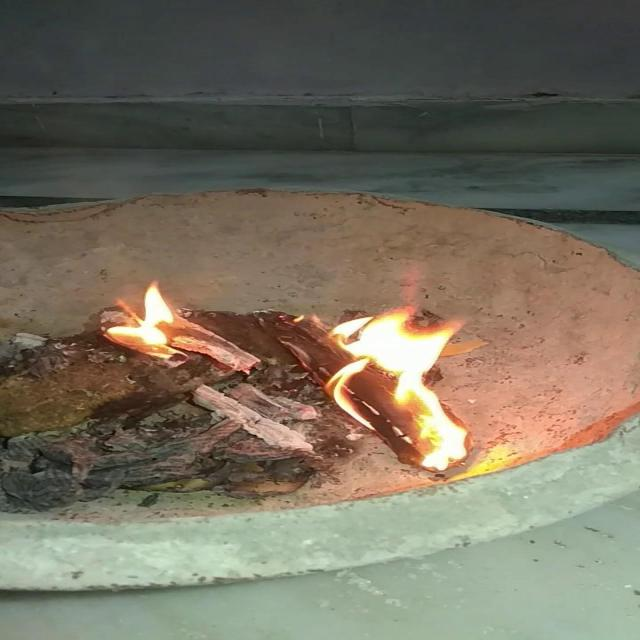fire: (282, 257, 516, 478), (85, 277, 211, 366)
